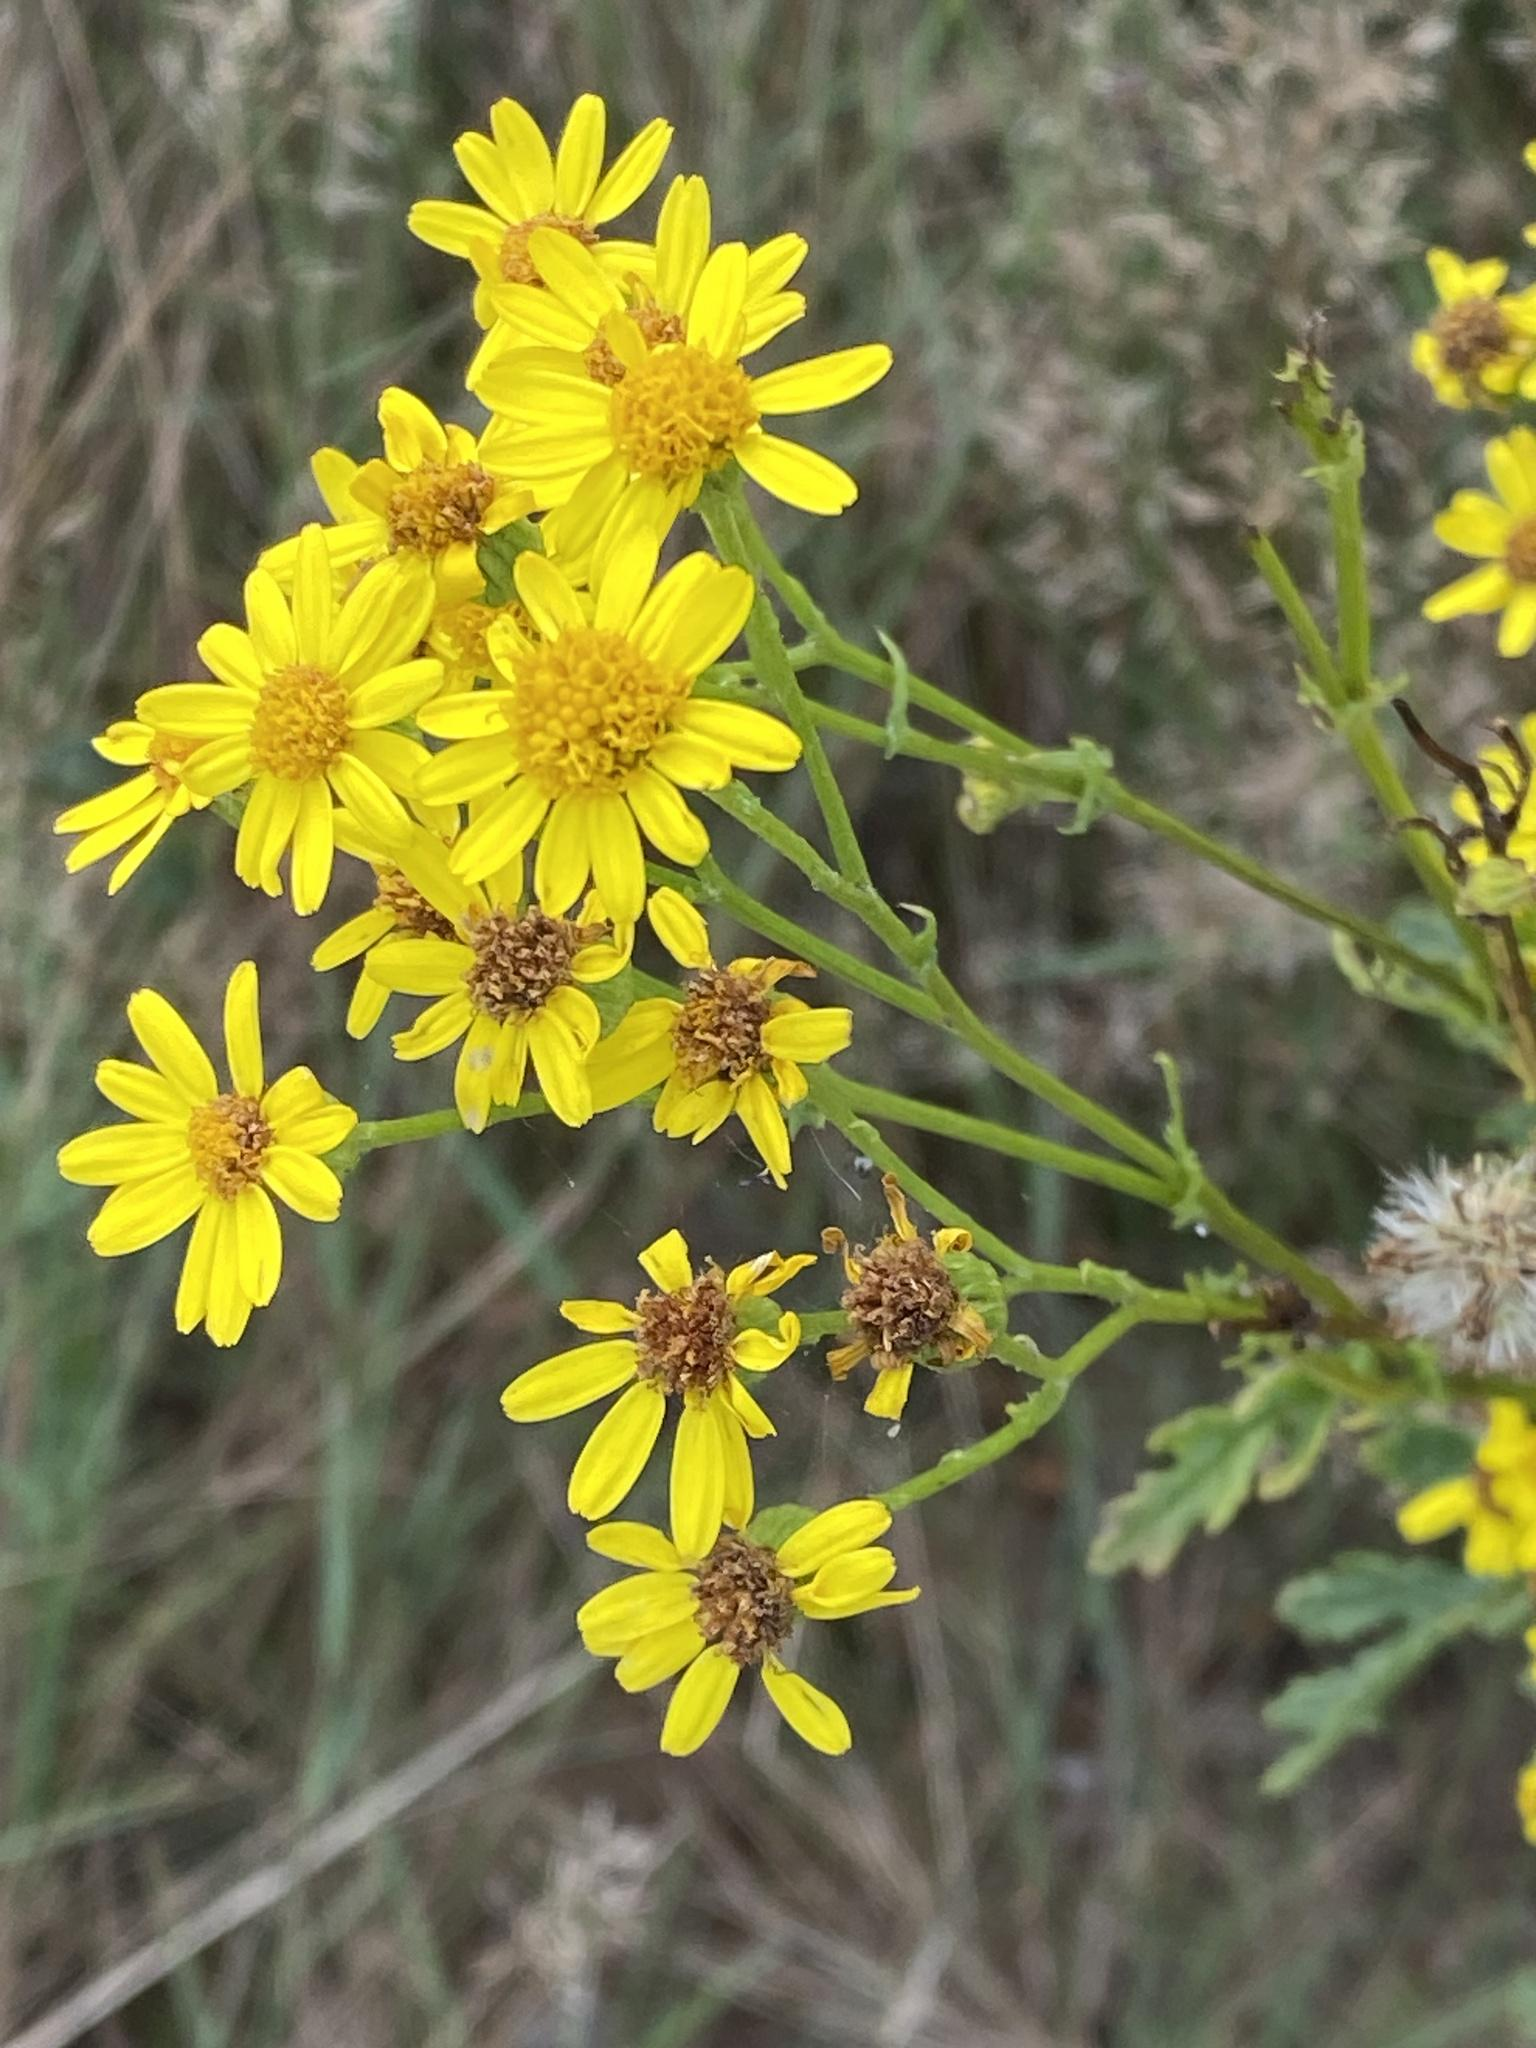Jacobaea vulgaris: (0, 50, 1536, 1846)
